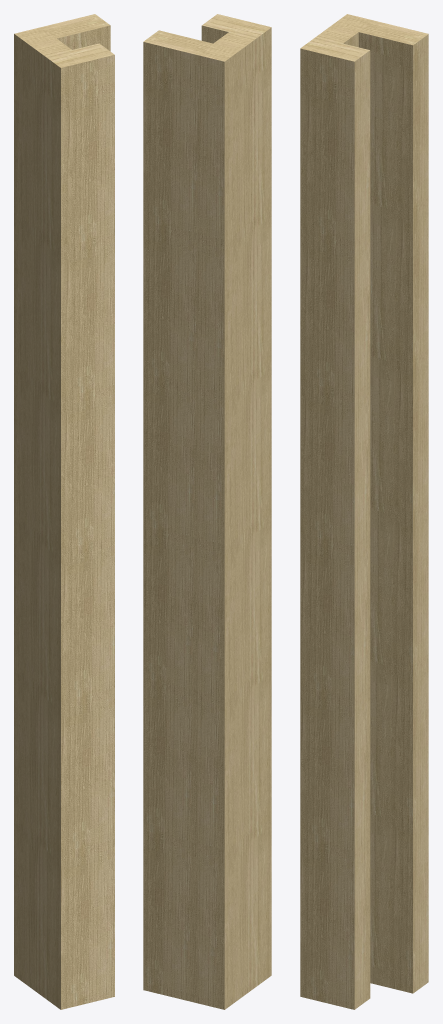
3 renders of one model, left to right at view 1: azimuth 30°, elevation 25°; view 2: azimuth 150°, elevation 25°; view 3: azimuth 330°, elevation 25°, orthographic.
Parts seen in each view (by area): view 1: Geom3D (×3); view 2: Geom3D (×3); view 3: Geom3D (×3).
Boxes of the visible parts, bbox=[...] form: Geom3D (×3): bbox=[14, 14, 114, 1009]; Geom3D (×3): bbox=[143, 14, 271, 1009]; Geom3D (×3): bbox=[300, 14, 428, 1009].
Size of the model in its own units: 0.054 by 0.6 by 0.054.
Materials: 1 (1 with a texture image).
